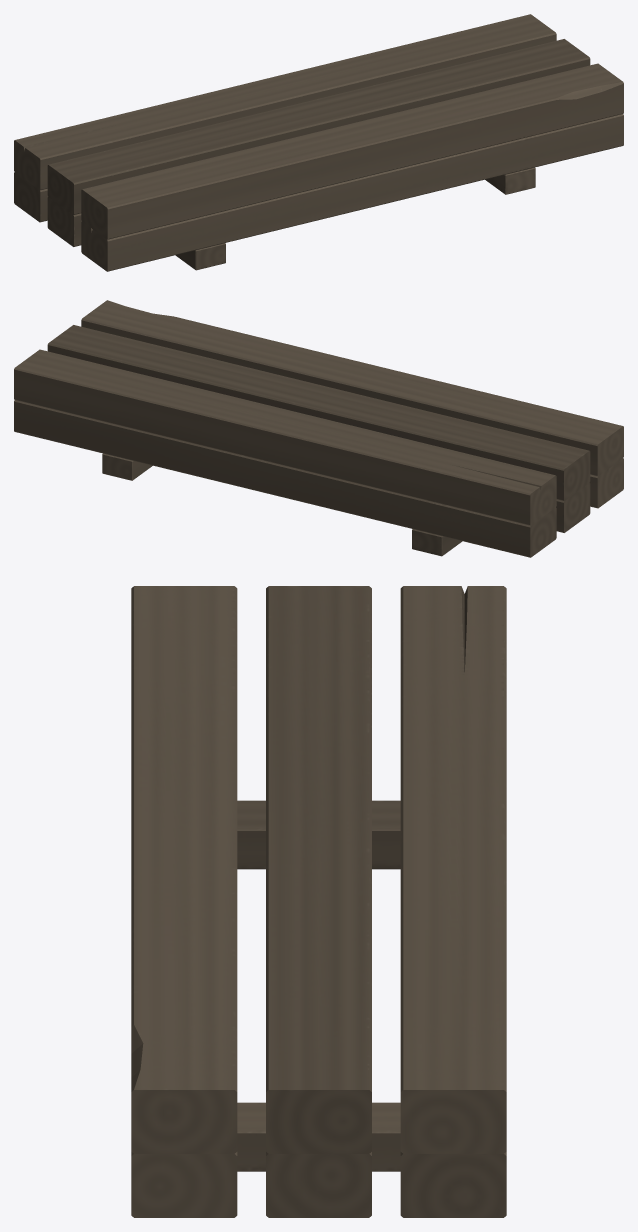
Rendered from rail_sleepers_short.glb.
3 views of the same model, one above another, from view 1: azimuth 30°, elevation 25°; view 2: azimuth 150°, elevation 25°; view 3: azimuth 270°, elevation 25° (orthographic). The views are drawn at different scales.
Parts seen in each view (by area): view 1: RailSleepersShort; view 2: RailSleepersShort; view 3: RailSleepersShort.
Boxes of the visible parts, box(x1,y1,x2,y2) form: RailSleepersShort: box(14, 14, 623, 271); RailSleepersShort: box(14, 300, 623, 557); RailSleepersShort: box(131, 586, 506, 1217).
Size of what is drawn, in the model's own units: 2.7 by 0.42 by 0.85.
Materials: 1 (1 with a texture image).
